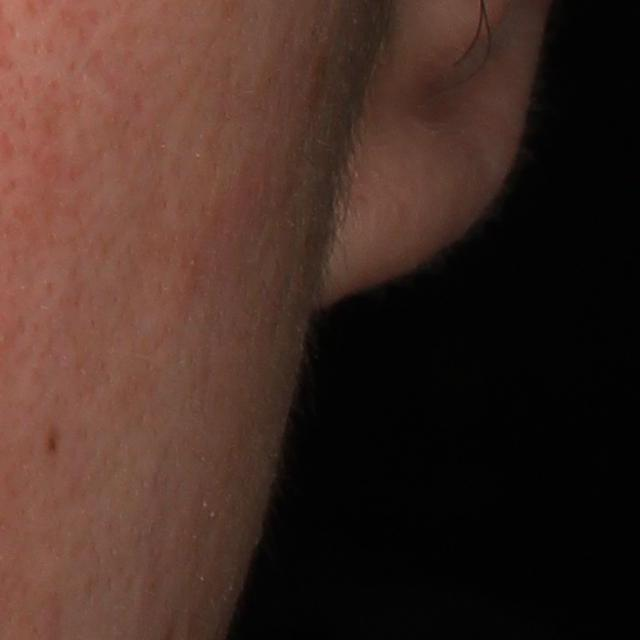nevus: (46, 434, 62, 459)
